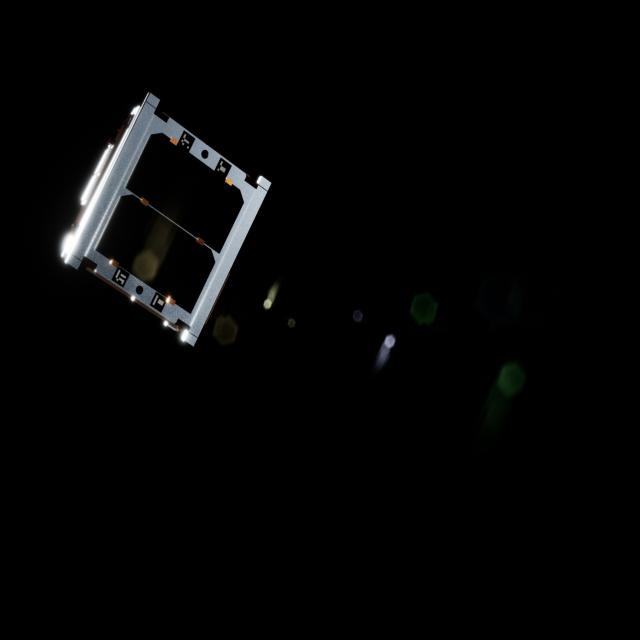medium_debris: (57, 88, 276, 352)
